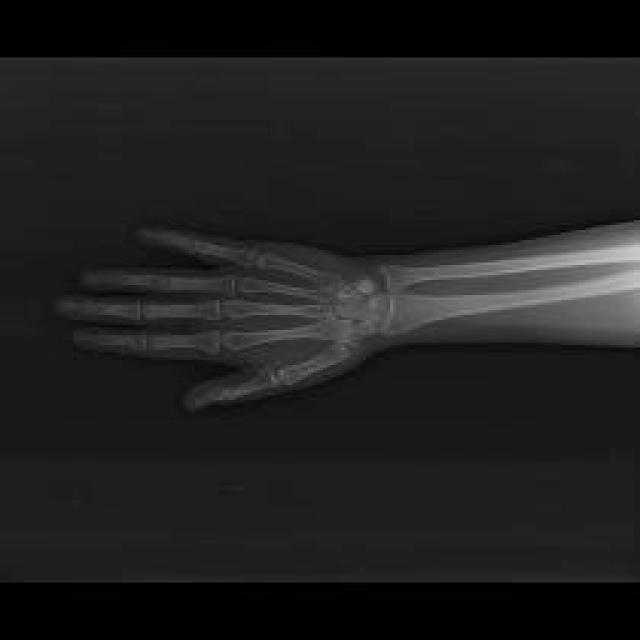normal: (62, 229, 640, 407)
